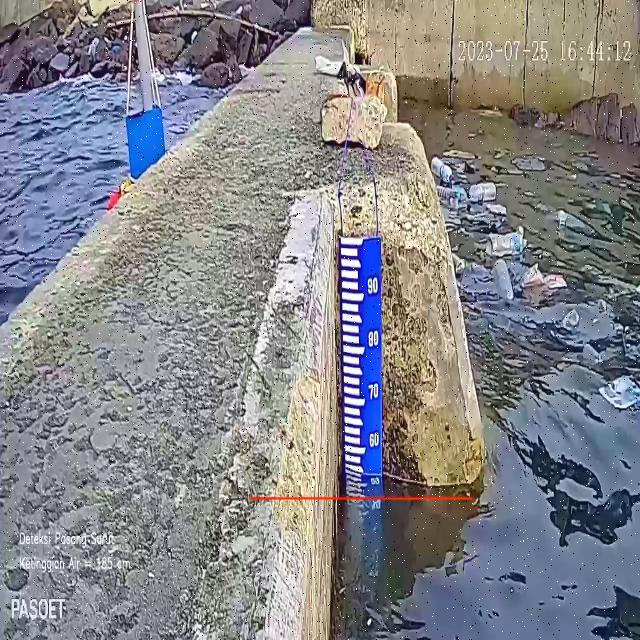60: (369, 431, 380, 449)
70: (368, 381, 380, 402)
80: (367, 329, 380, 348)
90: (368, 277, 378, 296)
staff: (340, 237, 382, 488)
